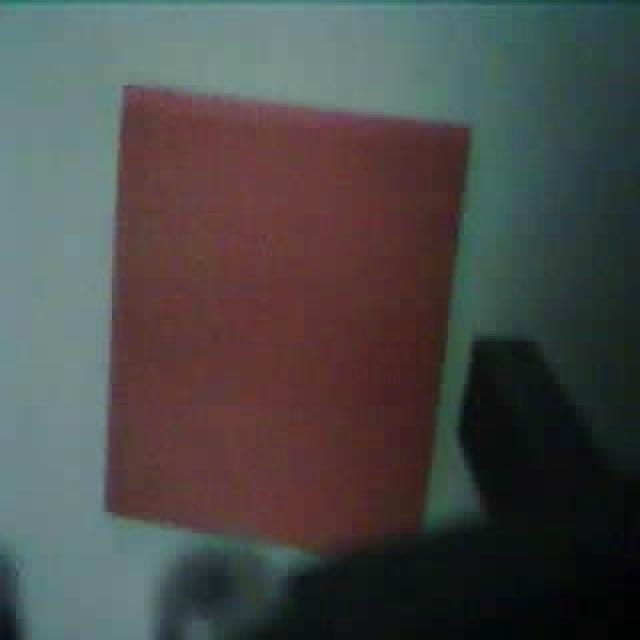red_box: (100, 77, 474, 563)
